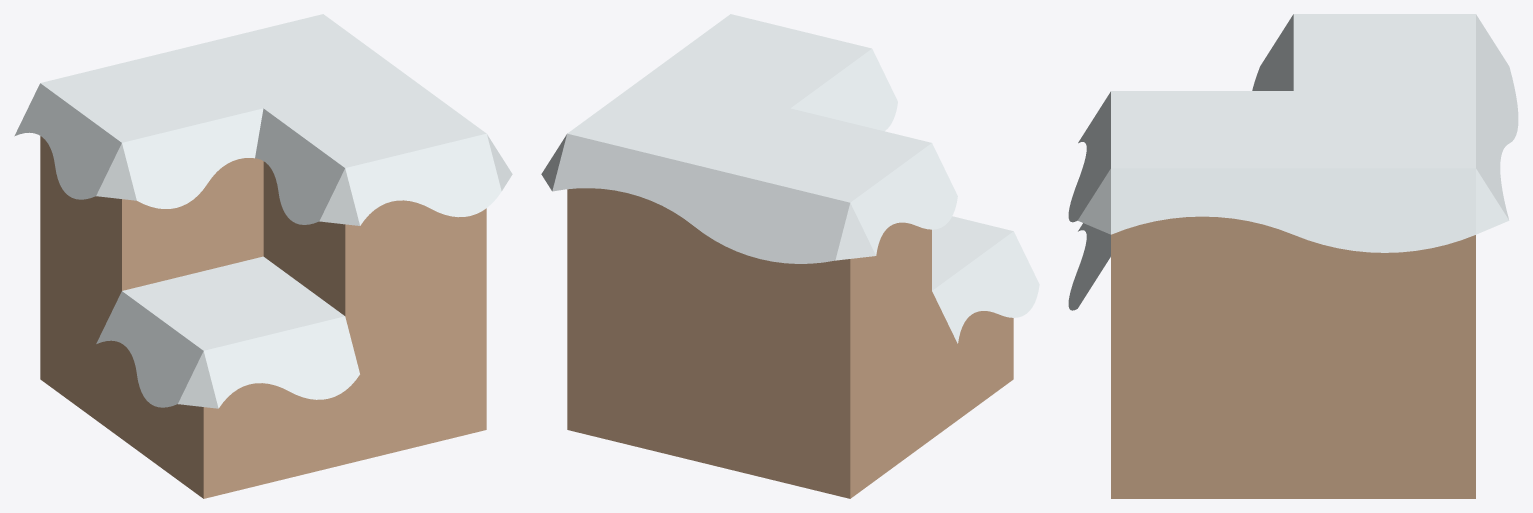
3 views of the same model, side by side, from view 1: azimuth 30°, elevation 25°; view 2: azimuth 150°, elevation 25°; view 3: azimuth 270°, elevation 25° (orthographic). The views are drawn at different scales.
Visible parts, largest first — view 1: blockSnowLevel; view 2: blockSnowLevel; view 3: blockSnowLevel.
Part boxes in pixels (x1=…): blockSnowLevel: x1=14, y1=14, x2=512, y2=498; blockSnowLevel: x1=541, y1=14, x2=1039, y2=498; blockSnowLevel: x1=1068, y1=14, x2=1518, y2=498.
Size of the model in its own units: 1.23 by 1 by 1.23.
